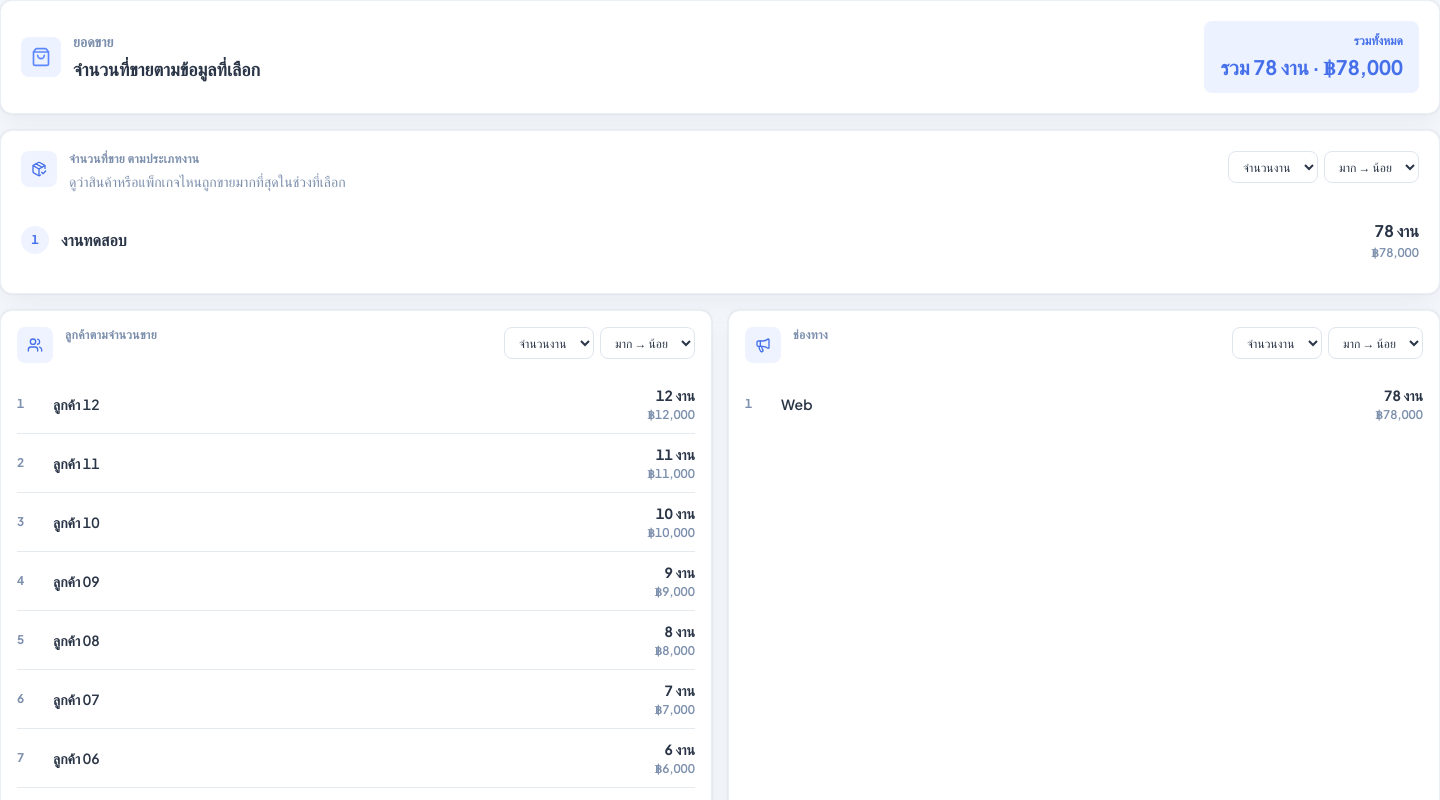
Test case: SalesSummary — per-section sort independence › the customer card sorts BEFORE its top-10 slice, so 'น้อย → มาก' surfaces the bottom-N rather than reversing the top-10
The image size is (1440, 800).
Expected: the text "ลูกค้า 01" is not shown
Expected: the text "ลูกค้า 02" is not shown
Select "น้อย → มาก" in the dropdown named "ทิศทางการเรียงในส่วนรายชื่อลูกค้า" at (648, 343), box [600,327,695,359]
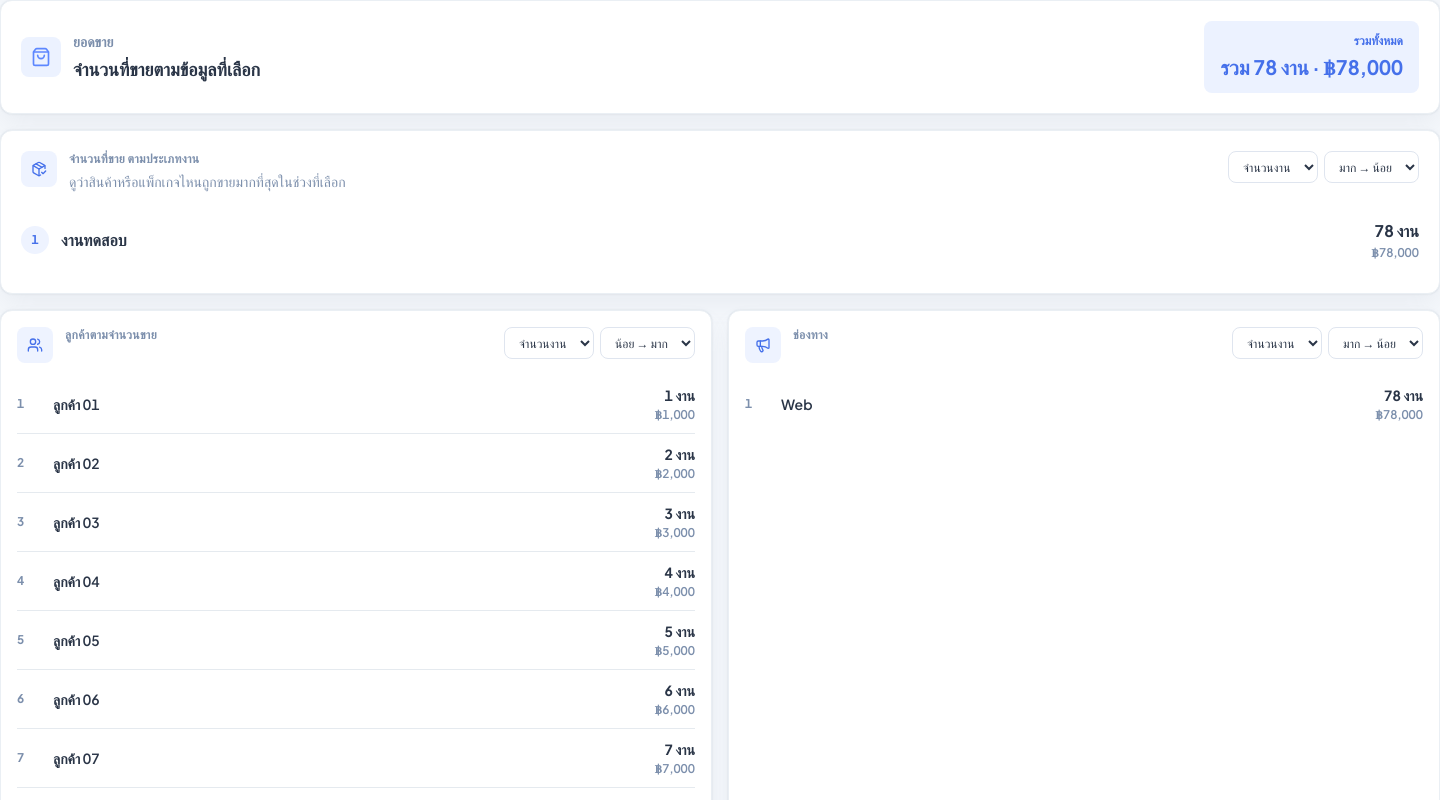
Now the text "ลูกค้า 01" is shown, box [53,395,100,413]
Now the text "ลูกค้า 11" is gone
Now the text "ลูกค้า 12" is gone
